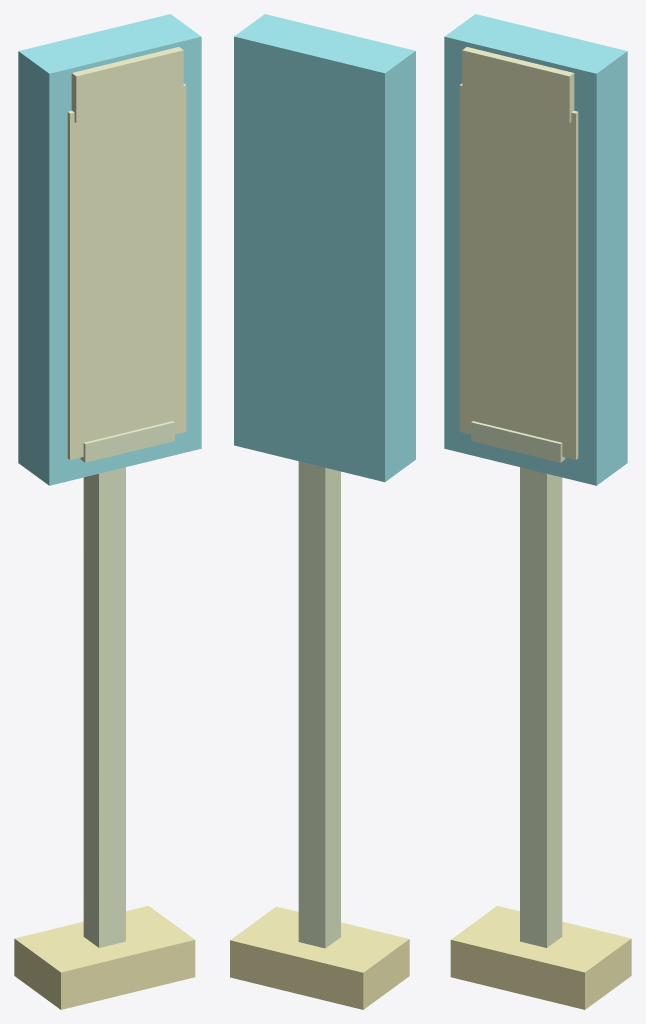
Rendered from furniture_bus_stop_notice_case.glb.
3 views of the same model, side by side, from view 1: azimuth 30°, elevation 25°; view 2: azimuth 150°, elevation 25°; view 3: azimuth 330°, elevation 25° (orthographic).
Visible parts, largest first — view 1: case_face, case_frame, post, base, header_strip, clip_rail; view 2: case_frame, post, base; view 3: case_face, case_frame, post, base, header_strip, clip_rail.
Part boxes in pixels (x1,y1,x2,y2): case_face: [67, 83, 186, 459]; case_frame: [18, 14, 201, 485]; post: [83, 467, 125, 947]; base: [14, 906, 195, 1009]; header_strip: [71, 47, 183, 122]; clip_rail: [80, 421, 174, 462]; case_frame: [234, 14, 415, 481]; post: [298, 461, 340, 948]; base: [230, 906, 409, 1009]; case_face: [459, 83, 578, 459]; case_frame: [444, 14, 627, 485]; post: [520, 467, 562, 947]; base: [450, 906, 631, 1009]; header_strip: [462, 47, 574, 122]; clip_rail: [471, 421, 565, 462].
Size of the model in its own units: 0.34 by 2 by 0.188.
